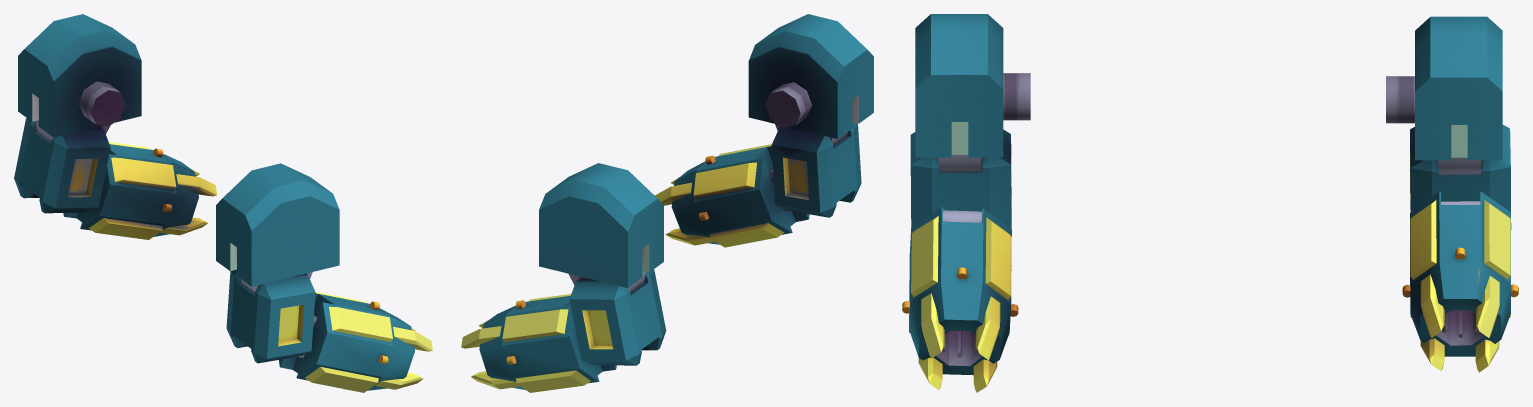
The model's file is Player_Idle16.obj.
3 renders of one model, left to right at view 1: azimuth 30°, elevation 25°; view 2: azimuth 150°, elevation 25°; view 3: azimuth 270°, elevation 25°, orthographic. The views are drawn at different scales.
Visible parts, largest first — view 1: Object005, Object003, Object001, Object007, Object006, Object002; view 2: Object003, Object005, Object001, Object007, Object006, Object002; view 3: Object001, Object007, Object005, Object003, Object002, Object006.
Part boxes in pixels (x1,y1,x2,y2): Object005: [18, 14, 141, 137]; Object003: [216, 163, 339, 286]; Object001: [279, 292, 432, 392]; Object007: [63, 142, 216, 239]; Object006: [14, 118, 110, 213]; Object002: [226, 269, 315, 363]; Object003: [748, 14, 873, 138]; Object005: [539, 163, 663, 287]; Object001: [655, 144, 809, 247]; Object007: [461, 294, 616, 392]; Object006: [568, 269, 666, 365]; Object002: [771, 122, 861, 217]; Object001: [902, 207, 1018, 392]; Object007: [1402, 191, 1518, 372]; Object005: [1386, 16, 1502, 160]; Object003: [915, 14, 1030, 157]; Object002: [910, 129, 1011, 228]; Object006: [1410, 125, 1511, 229].
Size of the model in its own units: 36.93 by 43.69 by 83.7.
1 material, 1 textured.
